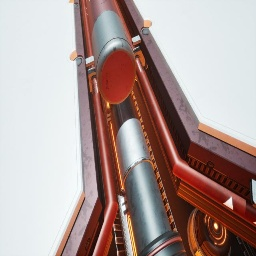NitrogenTank ,: (85, 0, 136, 104)
